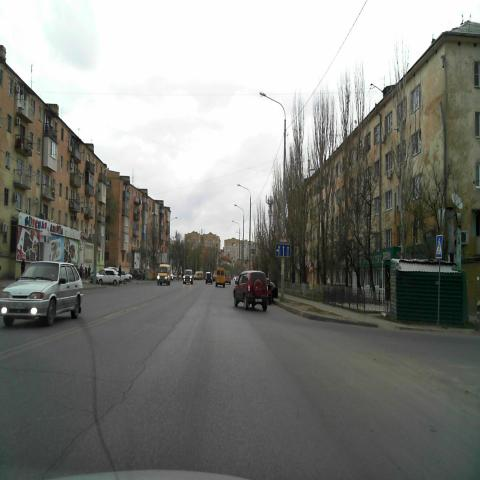1_23: (279, 228, 287, 244)
5_15_1: (276, 244, 290, 257)
5_19_1: (435, 234, 444, 260)
